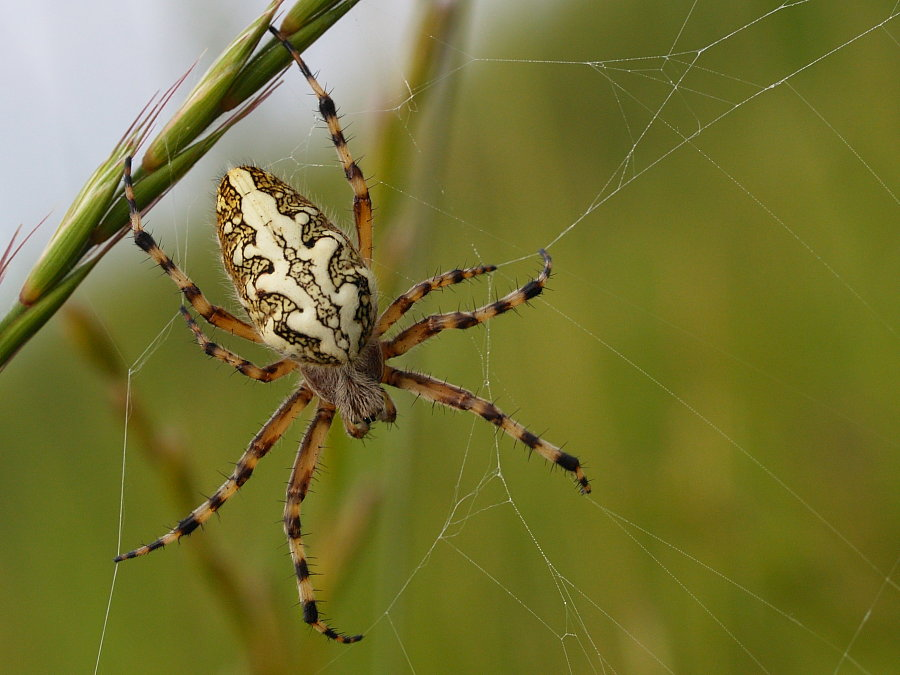spider: (43, 4, 624, 649)
